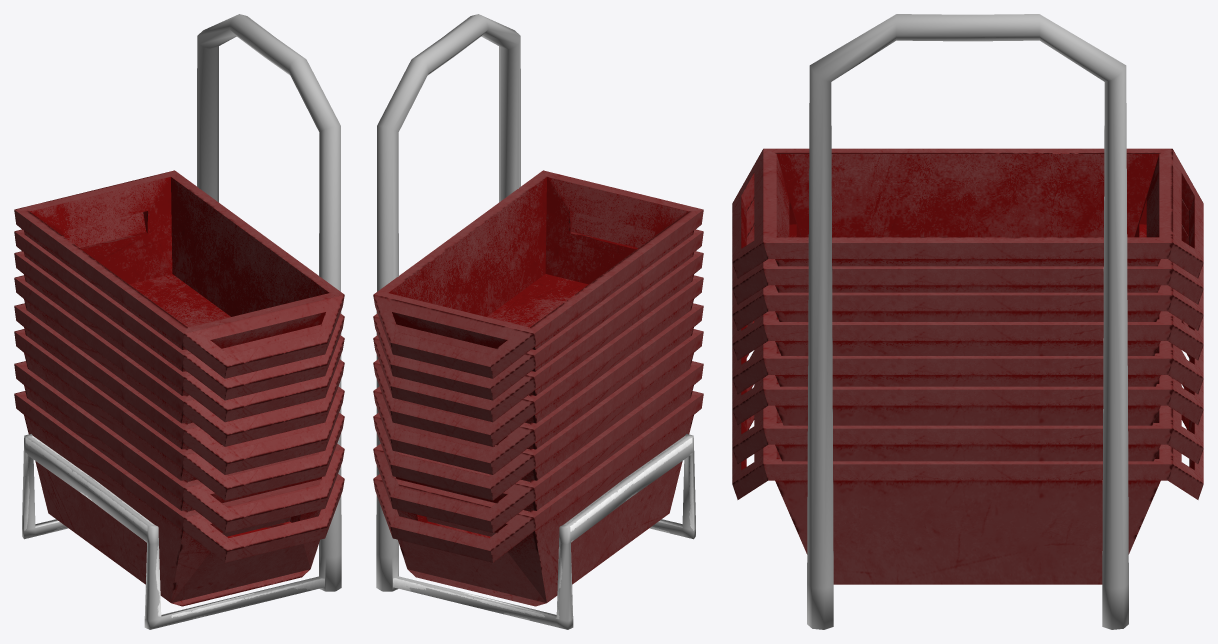
The model's file is basketStand_EMBED.fbx.
The picture shows the model from 3 angles, left to right: view 1: azimuth 30°, elevation 25°; view 2: azimuth 150°, elevation 25°; view 3: azimuth 270°, elevation 25°; orthographic projection. The views are drawn at different scales.
Visible parts, largest first — view 1: Baskets, basketStand; view 2: Baskets, basketStand; view 3: Baskets, basketStand.
Part boxes in pixels (bbox=[...]): Baskets: bbox=[14, 170, 344, 606]; basketStand: bbox=[22, 14, 341, 629]; Baskets: bbox=[373, 170, 703, 606]; basketStand: bbox=[376, 14, 695, 629]; Baskets: bbox=[732, 148, 1203, 584]; basketStand: bbox=[807, 14, 1128, 629].
Size of the model in its own units: 254 by 634 by 444.
2 materials, 2 textured.
